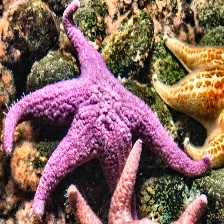starfish: (0, 0, 81, 154), (0, 0, 80, 107)
